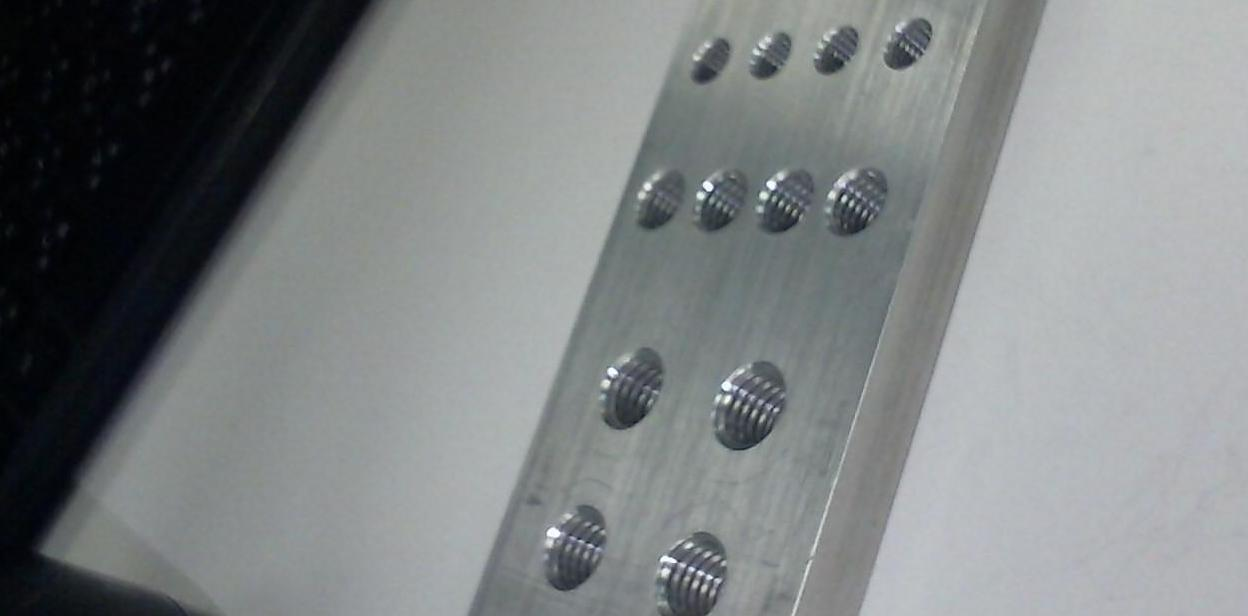hole: (703, 351, 798, 457), (532, 499, 616, 598), (640, 531, 736, 616), (586, 340, 670, 436), (824, 166, 890, 241), (693, 165, 749, 236), (759, 164, 814, 236), (632, 168, 686, 238), (882, 16, 934, 72), (744, 27, 795, 82), (812, 24, 862, 76), (688, 34, 731, 84)
